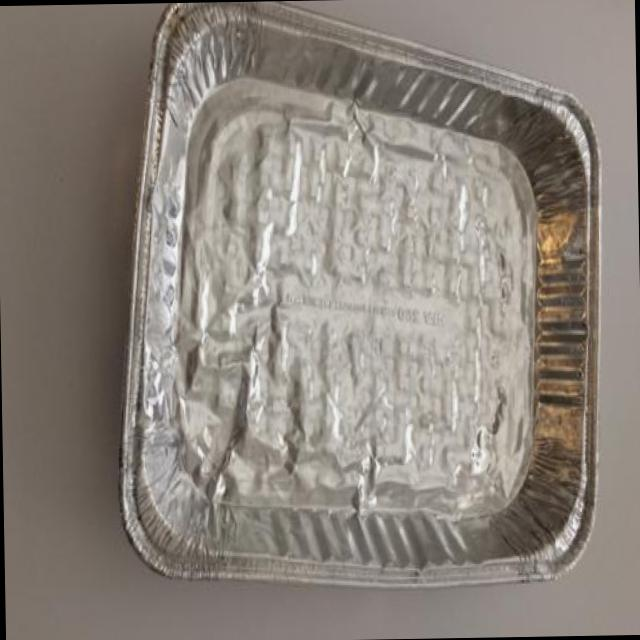kim_loai: (120, 1, 602, 586)
